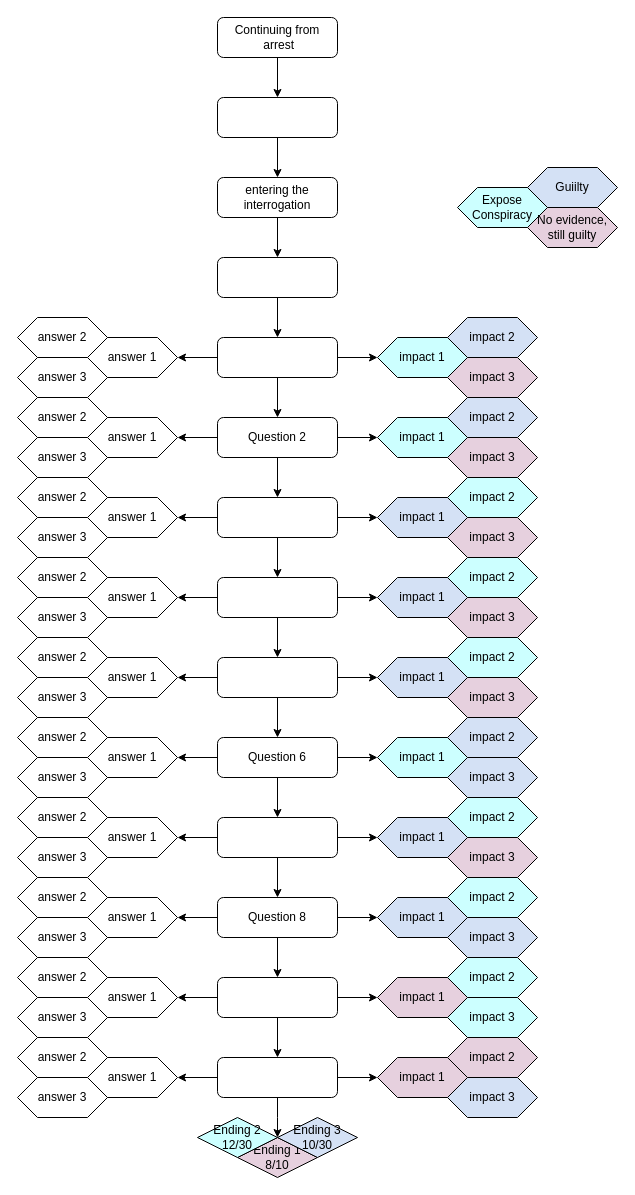
The diagram is 635 pixels wide and 1195 high, and some of its shapes have lost their labels. Each missing label, with the centre of its shape:
"introduce CIA/FBI agents" belongs at (277,277).
"Question 1" belongs at (277,357).
"Question 10" belongs at (277,1077).
"Question 3" belongs at (277,517).
"Question 4" belongs at (277,597).
"Question 5" belongs at (277,677).
"Question 7" belongs at (277,837).
"Question 9" belongs at (277,997).
"setting the scene at the station" belongs at (277,117).
